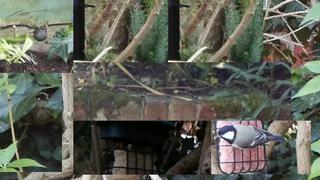great tit: (214, 124, 284, 149)
sparrow: (29, 27, 47, 44)
